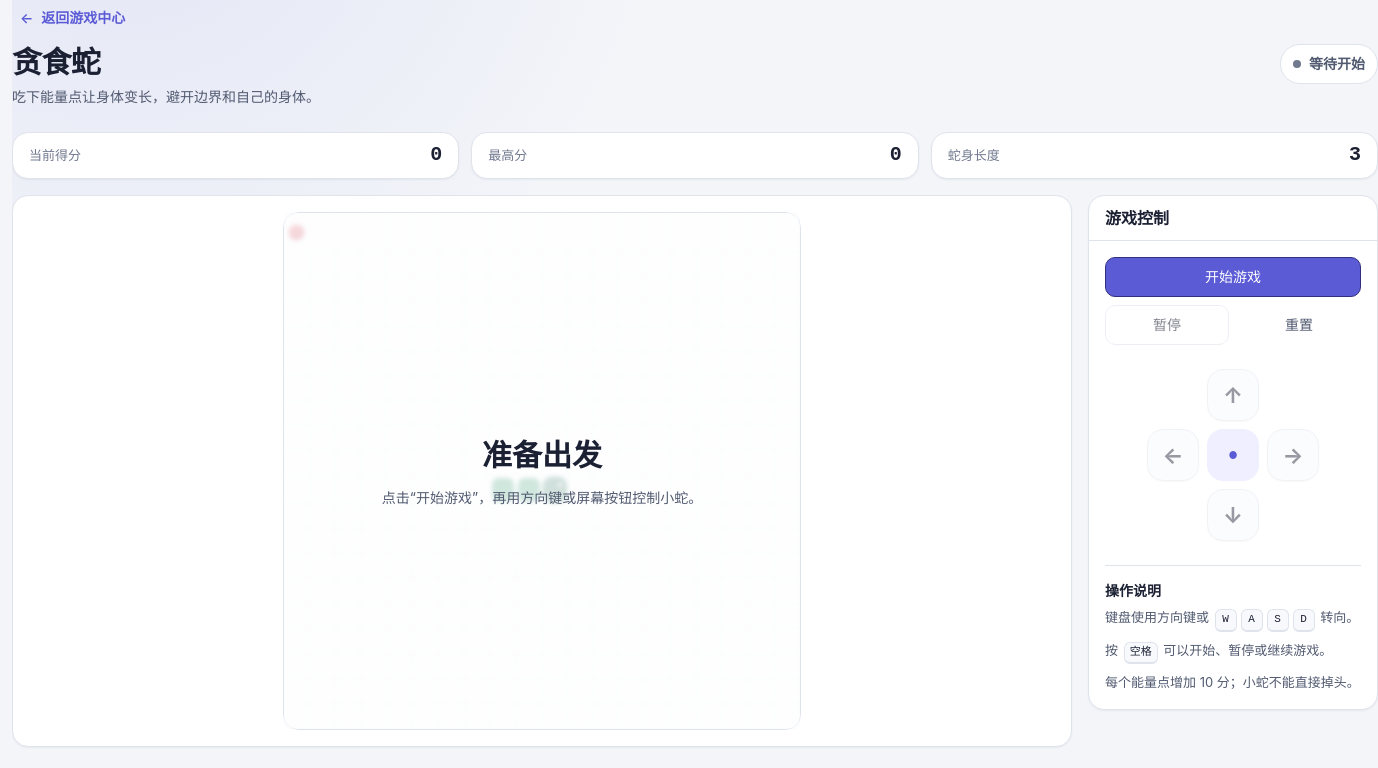
Test: SnakeGamePage › reports a wall collision and offers a fresh round
The image size is (1378, 768).
Click the button "开始游戏".
click(1233, 277)  # box [1105,257,1361,297]
Wait 2000 ms
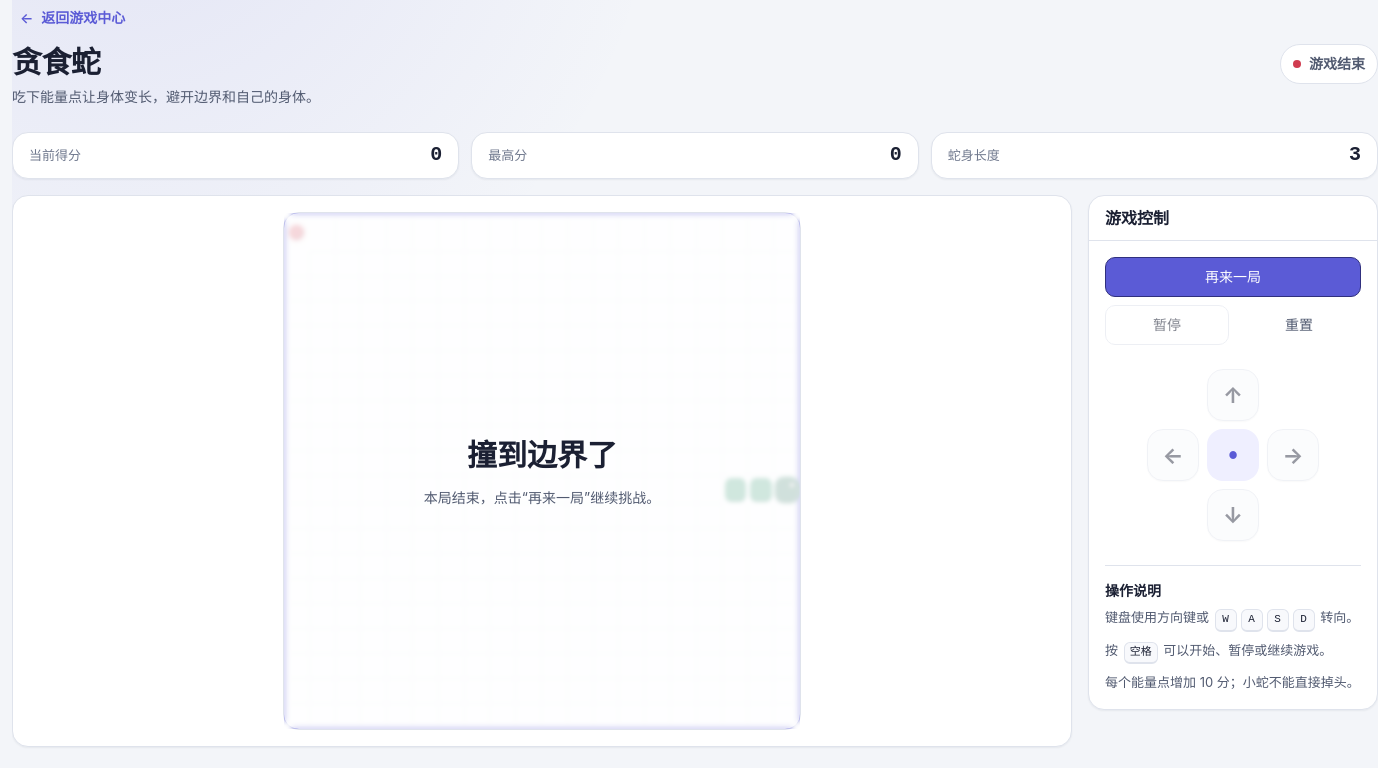
Expected: the button named "向上移动" is disabled, [1207,369,1259,421]
Expected: the message reads "游戏结束", [1309,55,1365,72]
Expected: the text "撞到边界了" is shown, [467,432,617,480]
Click the button "再来一局".
click(1233, 277)  # box [1105,257,1361,297]
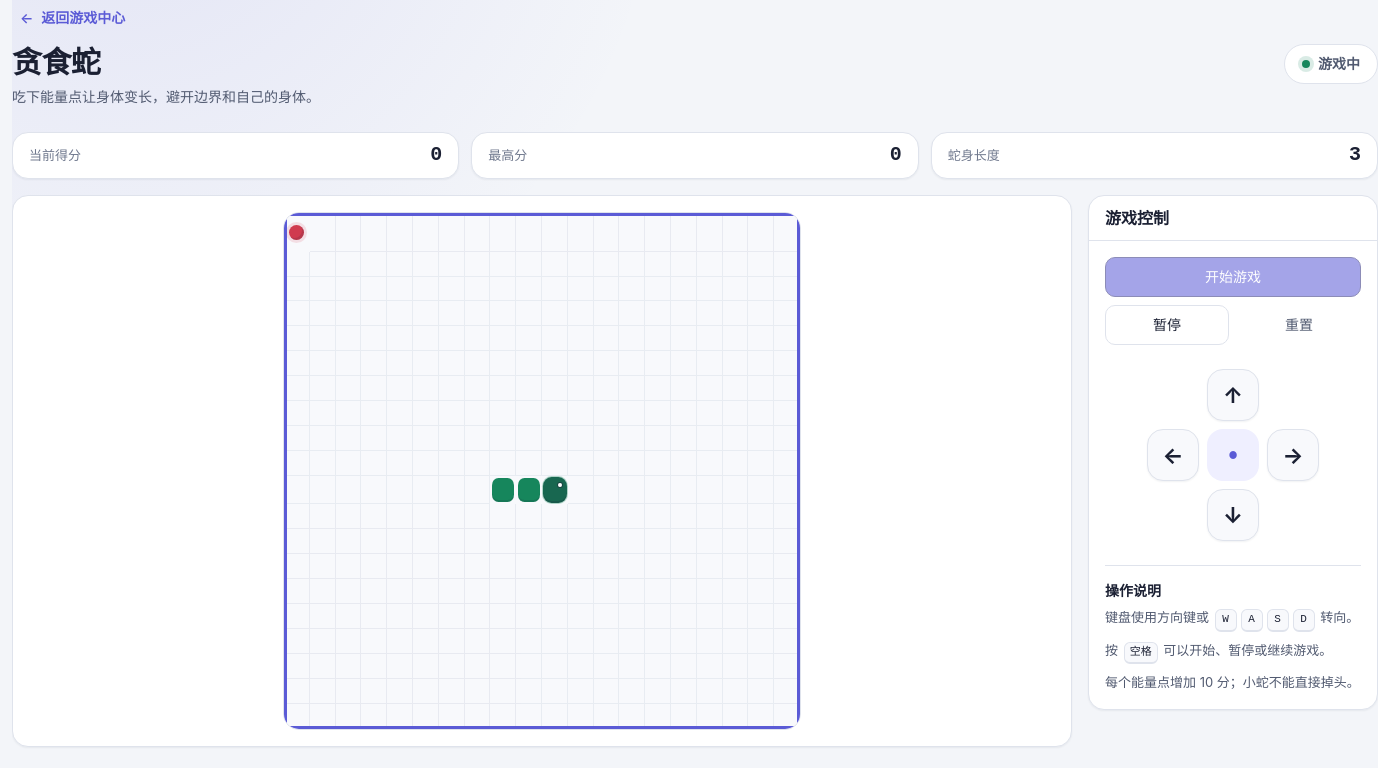
Expected: the message reads "游戏中", [1318,55,1360,72]
